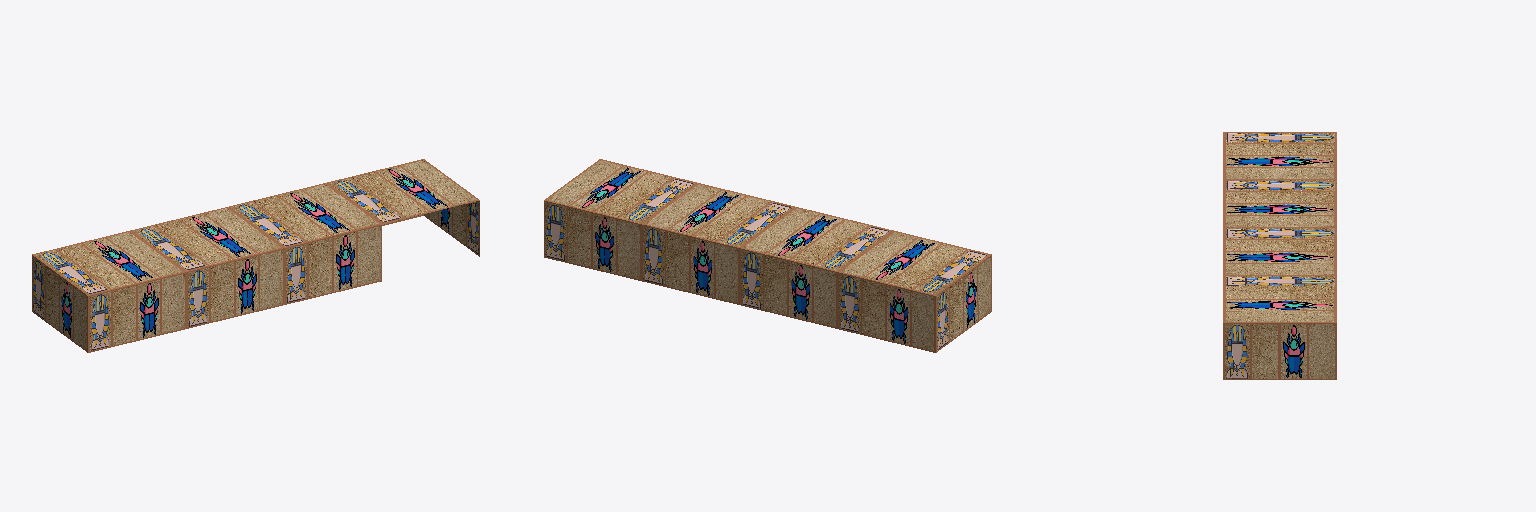
The picture shows the model from 3 angles: view 1: azimuth 30°, elevation 25°; view 2: azimuth 150°, elevation 25°; view 3: azimuth 270°, elevation 25°; orthographic projection.
Parts seen in each view (by area): view 1: Box109; view 2: Box109; view 3: Box109.
Boxes of the visible parts, box(x1,y1,x2,y2) form: Box109: box(32, 159, 479, 352); Box109: box(544, 159, 991, 352); Box109: box(1223, 132, 1336, 379).
Size of the model in its own units: 18 by 2.5 by 4.5.
1 materials, 1 textured.